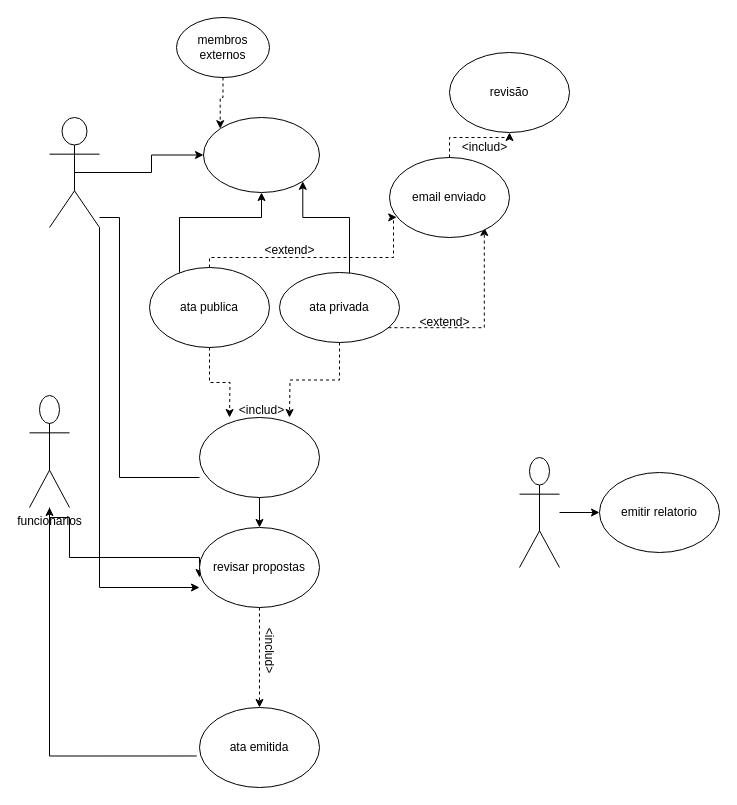
Some shapes in this 737 by 805 pixel diagram are drawn without their labels. The shapes that lost their labels are listed below. From the top down, each one's centre as x and y in pixels, then its label:
the point at 74,172: emissor
the point at 261,154: emitir ata
the point at 259,457: aguardando a ata ser emitida
the point at 539,512: administrador
